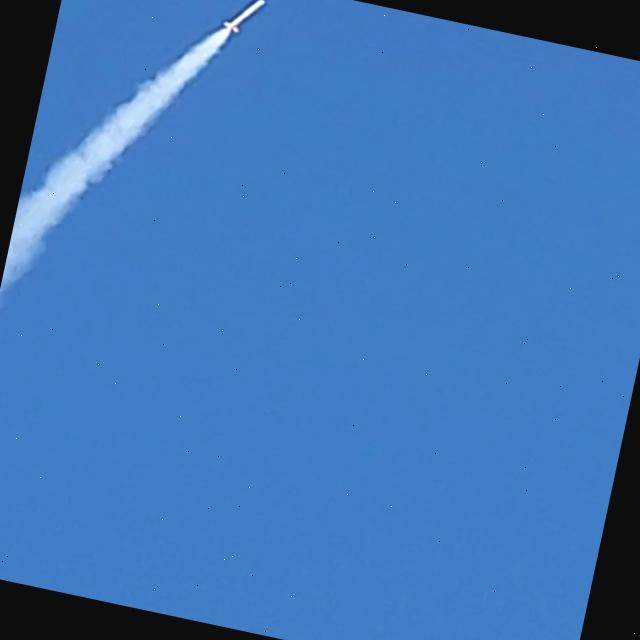rocket: (216, 0, 262, 41), (201, 41, 210, 53)
